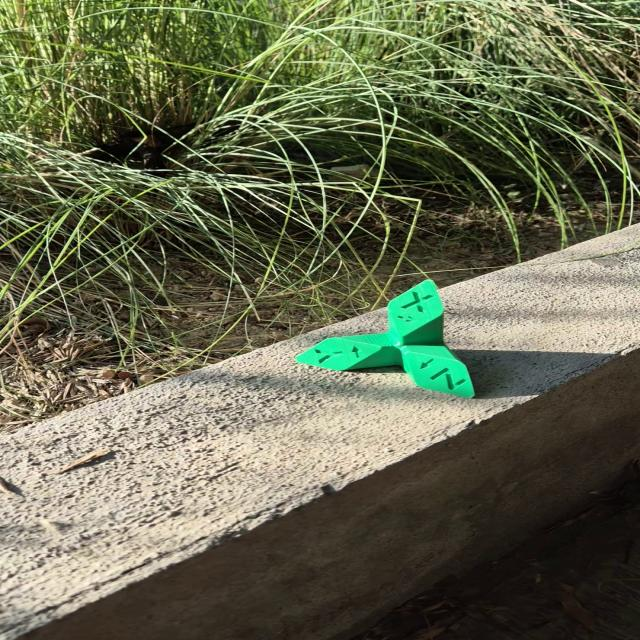objects: (292, 277, 479, 400)
